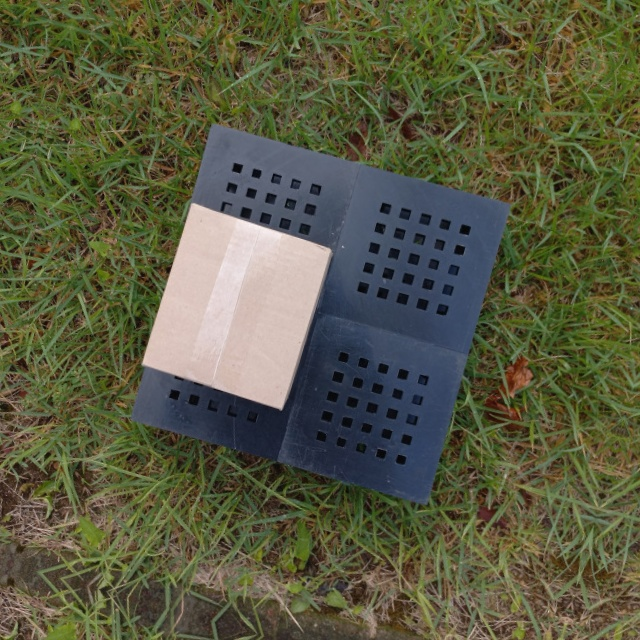box: (134, 199, 336, 414)
pallet: (124, 115, 518, 512)
